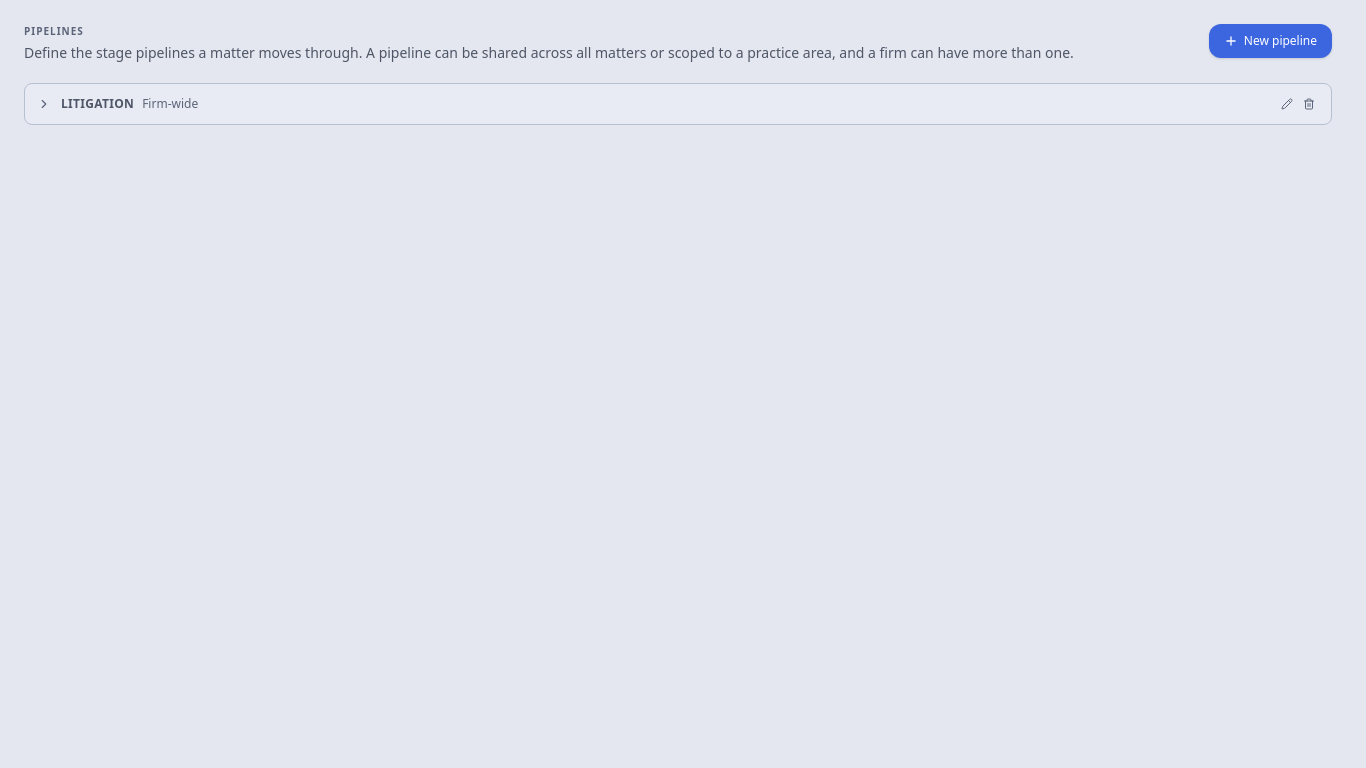
shows a refused pipeline delete inside the still-open confirm dialog
The width and height of the screenshot is (1366, 768).
Click the button named "Delete Litigation": (1309, 104) [1299,94,1319,114]
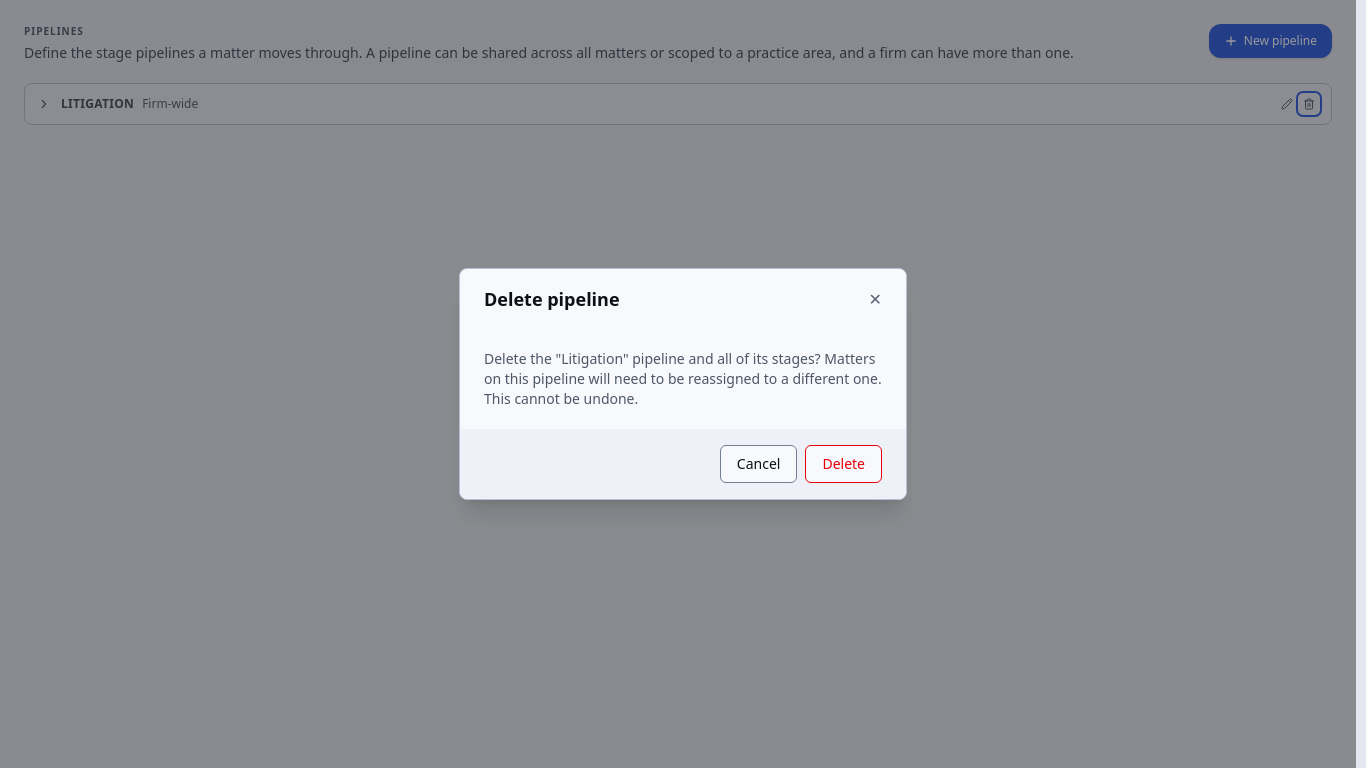
Click the button "Delete": (844, 464) [805,445,882,483]
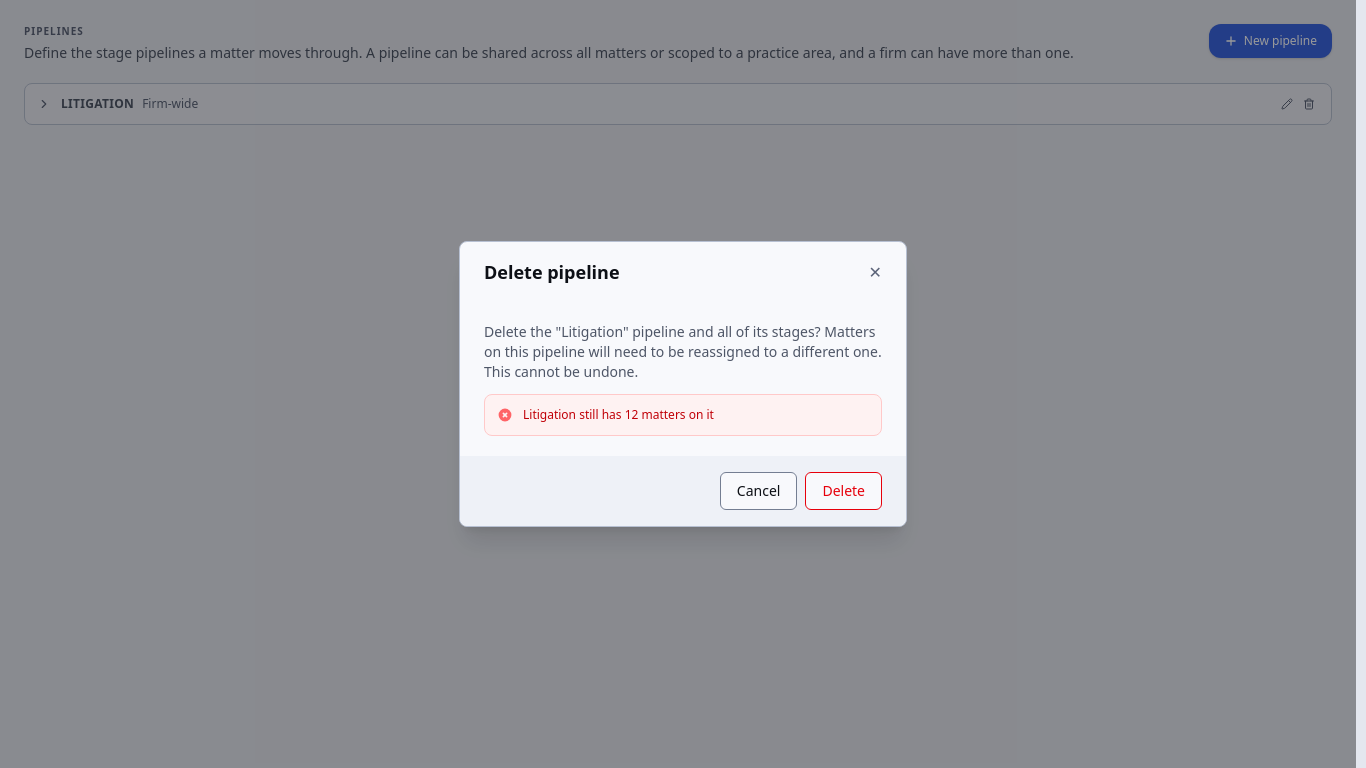
Check: the message reads "Litigation still has 12 matters on it", box [523,406,714,423]
Check: the number of messages is 1, box [484,394,882,436]
